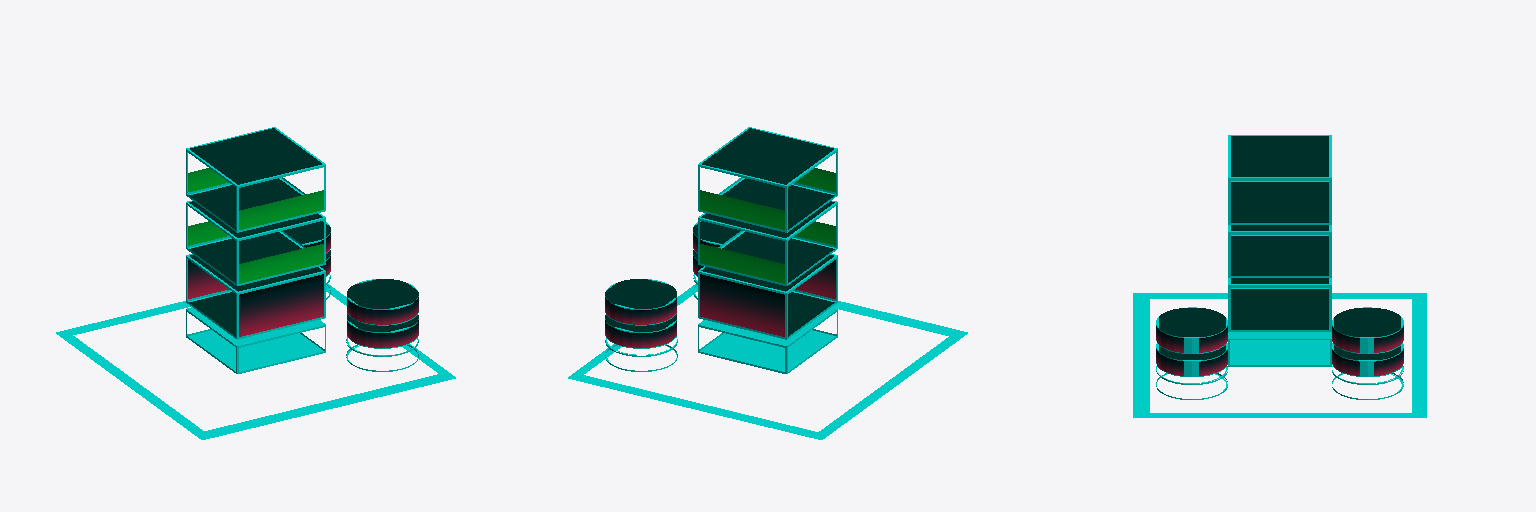
3 renders of one model, left to right at view 1: azimuth 30°, elevation 25°; view 2: azimuth 150°, elevation 25°; view 3: azimuth 270°, elevation 25°, orthographic.
Parts seen in each view (by area): view 1: Mesh1 Group2 Group1 Model, Mesh4 Group5 Group1 Model, Mesh3 Group4 Group1 Model, Mesh7 Group8 Model, Mesh2 Group3 Group1 Model, Mesh9 G_6_2 Model, Mesh8 G_6_1 Model, Mesh11 G_6_4 Model; view 2: Mesh1 Group2 Group1 Model, Mesh4 Group5 Group1 Model, Mesh3 Group4 Group1 Model, Mesh7 Group8 Model, Mesh2 Group3 Group1 Model, Mesh11 G_6_4 Model, Mesh10 G_6_3 Model, Mesh9 G_6_2 Model; view 3: Mesh1 Group2 Group1 Model, Mesh7 Group8 Model, Mesh4 Group5 Group1 Model, Mesh3 Group4 Group1 Model, Mesh2 Group3 Group1 Model, Mesh9 G_6_2 Model, Mesh11 G_6_4 Model, Mesh8 G_6_1 Model, Mesh10 G_6_3 Model.
Part boxes in pixels (bbox=[...]): Mesh1 Group2 Group1 Model: bbox=[186, 127, 325, 232]; Mesh4 Group5 Group1 Model: bbox=[186, 254, 325, 339]; Mesh3 Group4 Group1 Model: bbox=[186, 200, 325, 285]; Mesh7 Group8 Model: bbox=[56, 284, 455, 439]; Mesh2 Group3 Group1 Model: bbox=[186, 307, 325, 373]; Mesh9 G_6_2 Model: bbox=[347, 279, 418, 325]; Mesh8 G_6_1 Model: bbox=[347, 314, 418, 348]; Mesh11 G_6_4 Model: bbox=[283, 221, 330, 253]; Mesh1 Group2 Group1 Model: bbox=[698, 127, 837, 232]; Mesh4 Group5 Group1 Model: bbox=[698, 254, 837, 339]; Mesh3 Group4 Group1 Model: bbox=[698, 200, 837, 285]; Mesh7 Group8 Model: bbox=[568, 284, 967, 439]; Mesh2 Group3 Group1 Model: bbox=[698, 307, 837, 373]; Mesh11 G_6_4 Model: bbox=[605, 279, 676, 325]; Mesh10 G_6_3 Model: bbox=[605, 314, 676, 348]; Mesh9 G_6_2 Model: bbox=[693, 221, 740, 253]; Mesh1 Group2 Group1 Model: bbox=[1228, 135, 1331, 224]; Mesh7 Group8 Model: bbox=[1133, 293, 1426, 417]; Mesh4 Group5 Group1 Model: bbox=[1228, 278, 1331, 331]; Mesh3 Group4 Group1 Model: bbox=[1228, 225, 1331, 277]; Mesh2 Group3 Group1 Model: bbox=[1228, 332, 1331, 366]; Mesh9 G_6_2 Model: bbox=[1156, 307, 1227, 353]; Mesh11 G_6_4 Model: bbox=[1332, 307, 1403, 353]; Mesh8 G_6_1 Model: bbox=[1156, 343, 1227, 376]; Mesh10 G_6_3 Model: bbox=[1332, 343, 1403, 376].
Bounding box in the file's own units: 200 × 149 × 200.
Materials: 12 (11 with a texture image).